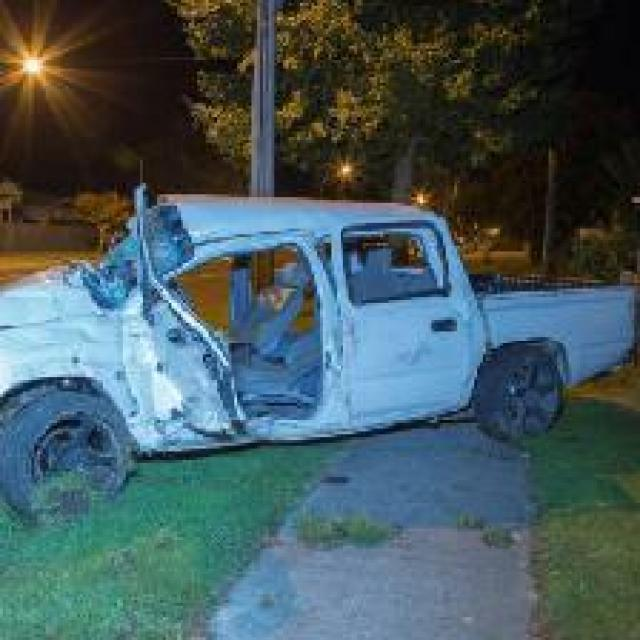damaged: (3, 180, 483, 440)
